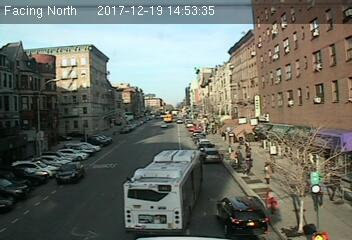bus: (121, 148, 207, 235)
car: (217, 196, 270, 239), (55, 161, 84, 182), (202, 147, 222, 162)
pedestrian: (263, 162, 274, 188), (244, 155, 253, 176)
